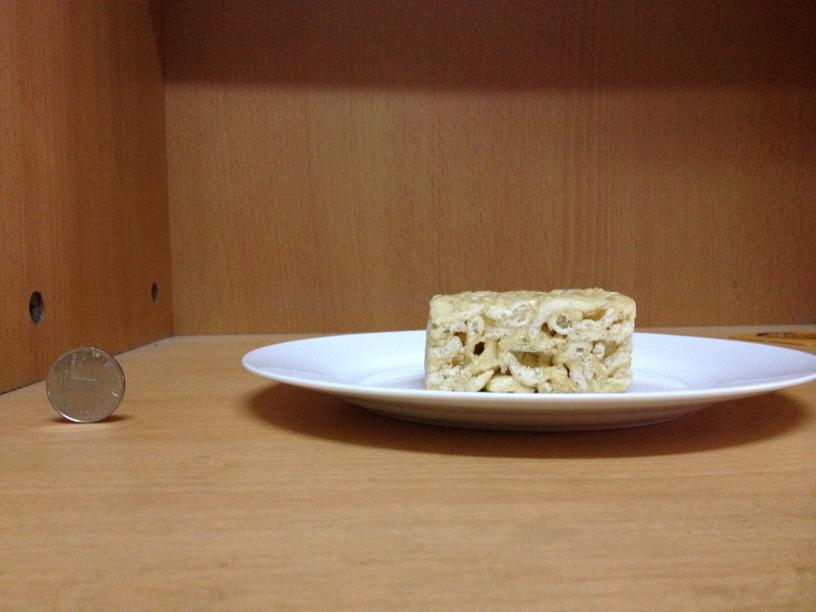coin: (45, 342, 126, 422)
sachima: (416, 286, 638, 392)
